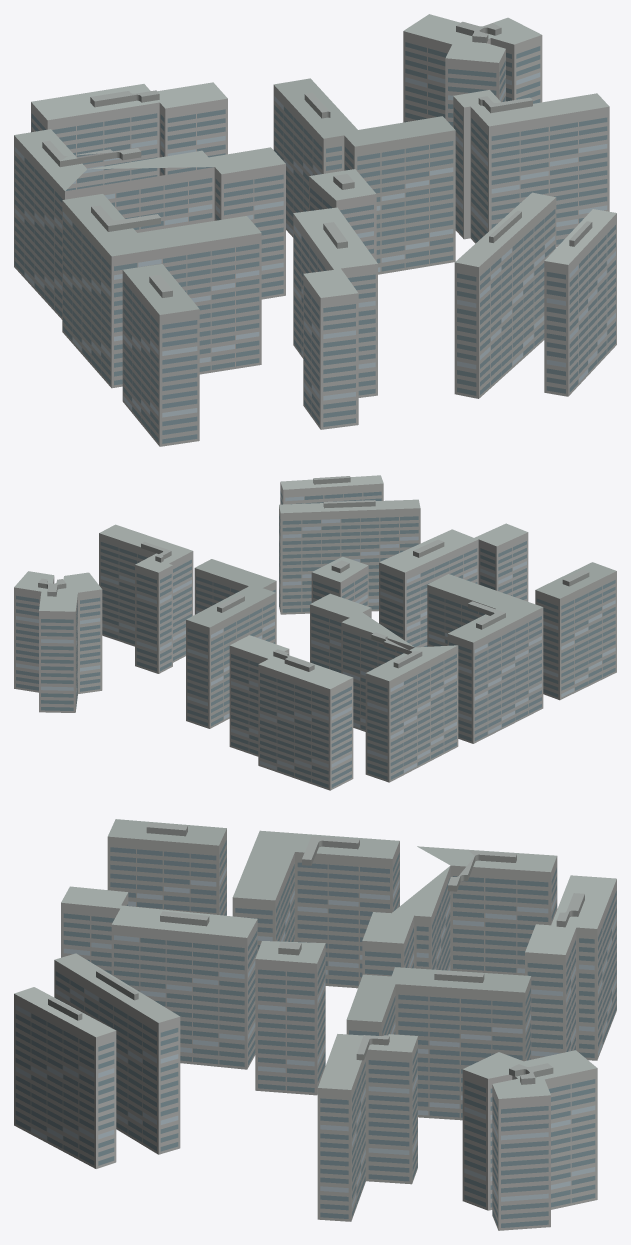
The model's file is apt-a15105004.glb.
The picture shows the model from 3 angles, top to bottom: view 1: azimuth 30°, elevation 25°; view 2: azimuth 150°, elevation 25°; view 3: azimuth 270°, elevation 25°; orthographic projection. The views are drawn at different scales.
Parts seen in each view (by area): view 1: apt-a15105004; view 2: apt-a15105004; view 3: apt-a15105004.
Boxes of the visible parts, left/top/right/bottom form: apt-a15105004: left=14, top=14, right=616, bottom=446; apt-a15105004: left=14, top=475, right=616, bottom=790; apt-a15105004: left=14, top=819, right=616, bottom=1230.
Size of the model in its own units: 208 by 47.81 by 190.
